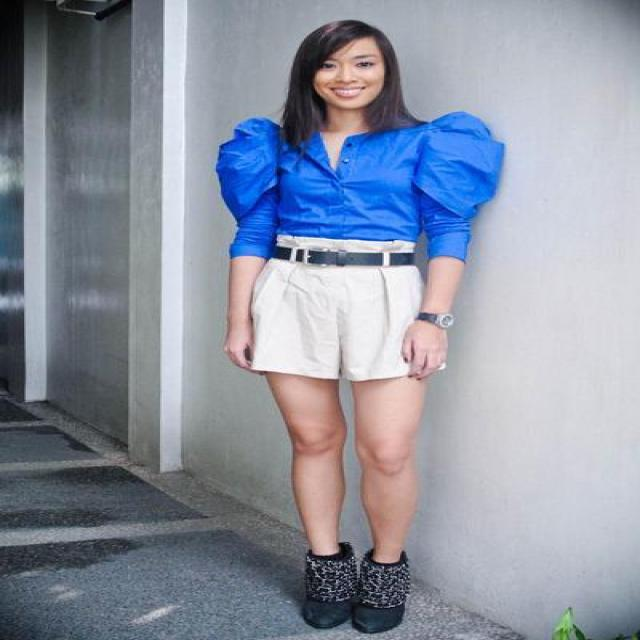shirt: (216, 115, 504, 260)
shoe: (284, 550, 410, 632)
shorts: (229, 220, 419, 380)
